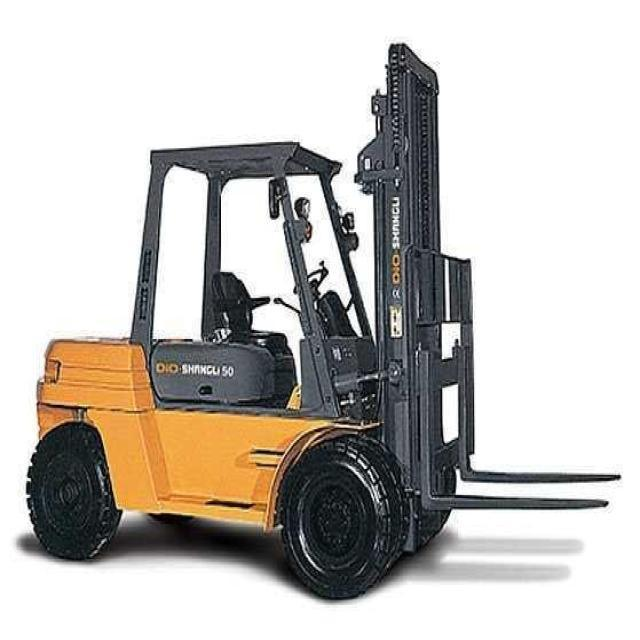forklift: (25, 44, 475, 599)
